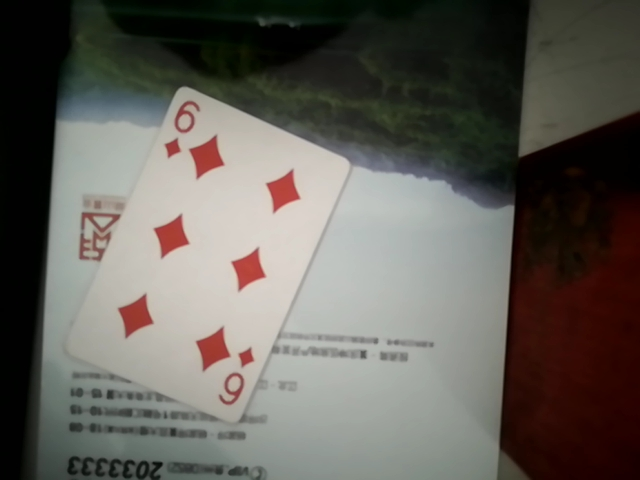fk 6: (67, 85, 348, 420)
